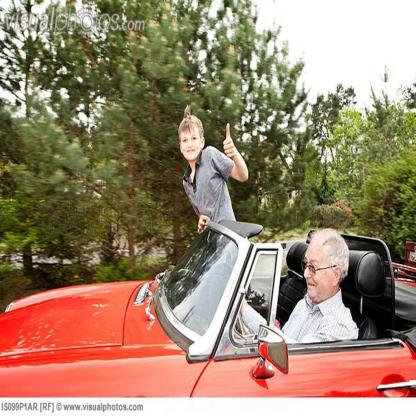face: (304, 241, 333, 298), (181, 128, 201, 161)
